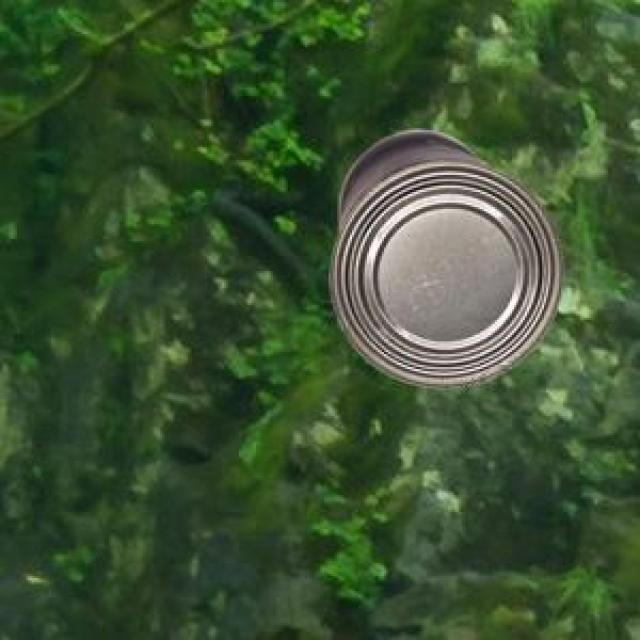Can: (323, 133, 566, 384)
